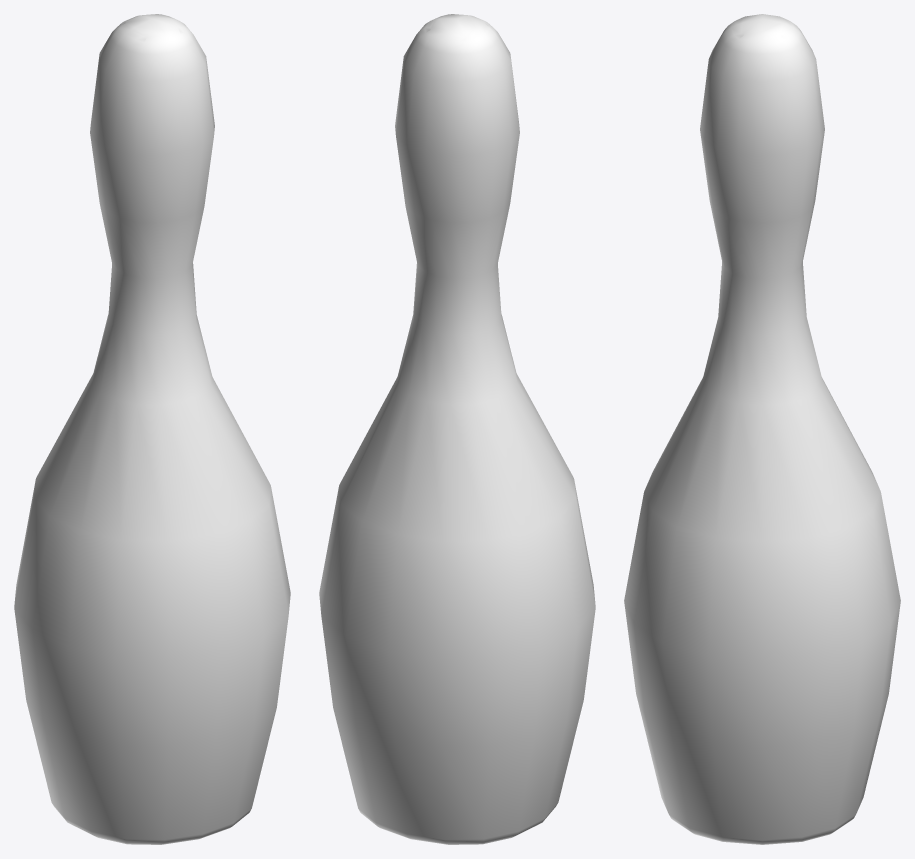
Rendered from pin.obj.
The picture shows the model from 3 angles, left to right: view 1: azimuth 30°, elevation 25°; view 2: azimuth 150°, elevation 25°; view 3: azimuth 270°, elevation 25°; orthographic projection.
Parts seen in each view (by area): view 1: Plane; view 2: Plane; view 3: Plane.
Boxes of the visible parts, x1,y1,x2,y2 form: Plane: [14, 14, 290, 844]; Plane: [319, 14, 595, 844]; Plane: [624, 14, 900, 844].
Bounding box in the file's own units: 0.121 × 0.38 × 0.121.
